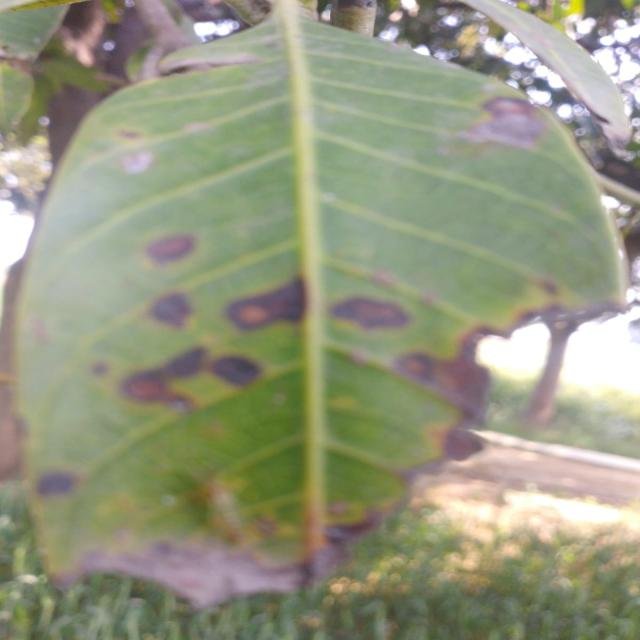Anthracnose: (390, 315, 513, 425), (459, 92, 548, 150), (226, 278, 305, 330), (323, 507, 388, 550), (206, 347, 264, 393), (331, 297, 409, 329), (143, 227, 200, 270), (146, 284, 197, 331), (159, 344, 213, 387), (117, 370, 178, 402), (222, 299, 290, 327), (441, 424, 485, 463), (35, 469, 78, 498), (118, 148, 158, 178), (536, 275, 562, 298), (117, 129, 141, 139), (91, 362, 108, 376)
